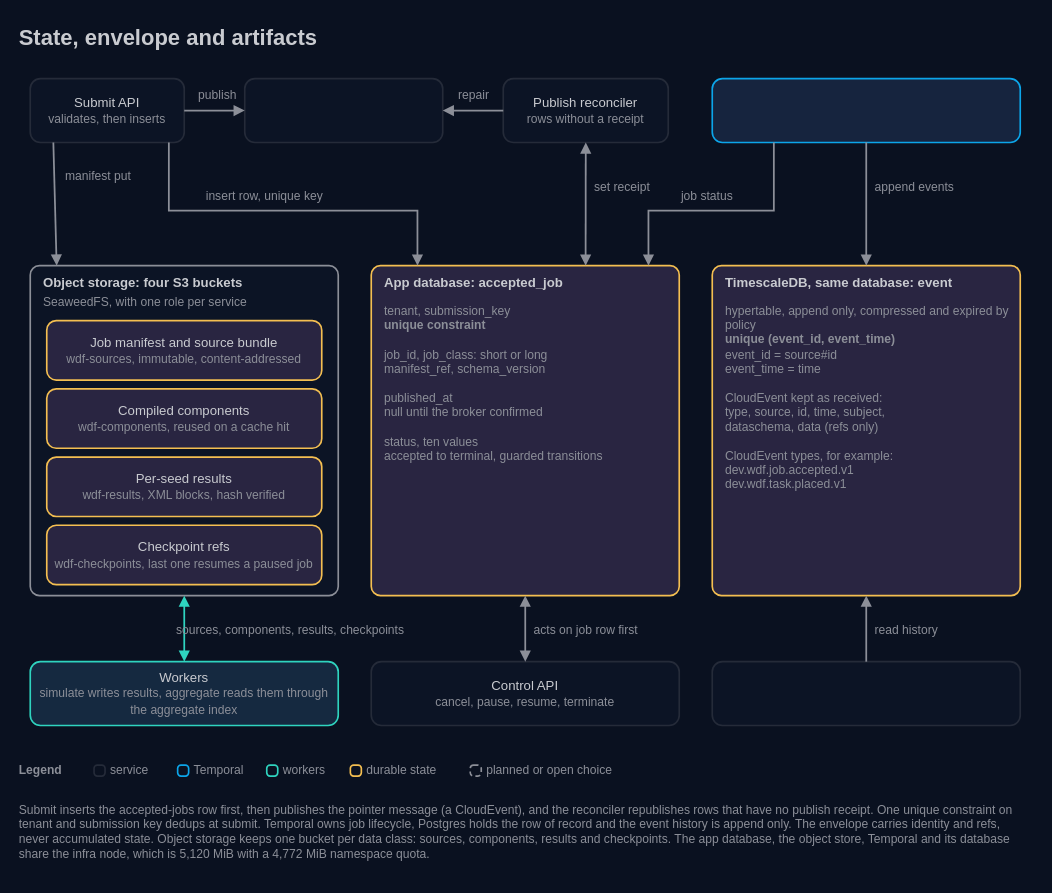
Some shapes in this 1052 by 893 pixel diagram are drawn without their labels. Each missing label, with the centre of its shape:
"Dashboards and queries read event history" belongs at point (866, 693).
"Intake CloudEvent dev.wdf.job.accepted.v1, pointer only" belongs at point (343, 110).
"Temporal workflow and activities" belongs at point (866, 110).
